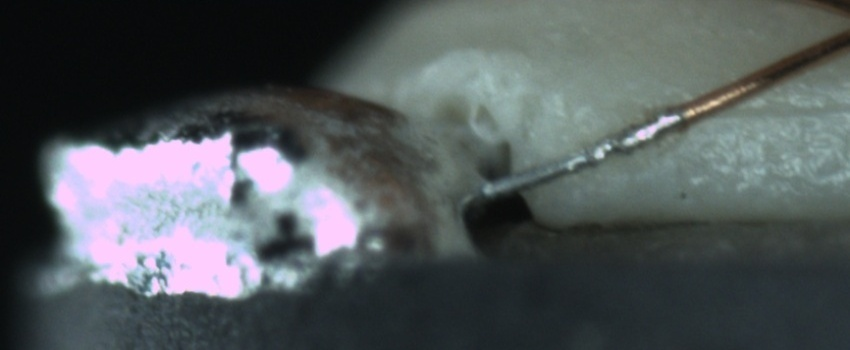DL: (701, 81, 849, 145)
TS: (482, 107, 688, 201)
TTCW: (479, 75, 764, 203)
